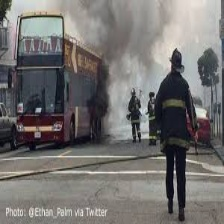smoke: (71, 1, 195, 49)
